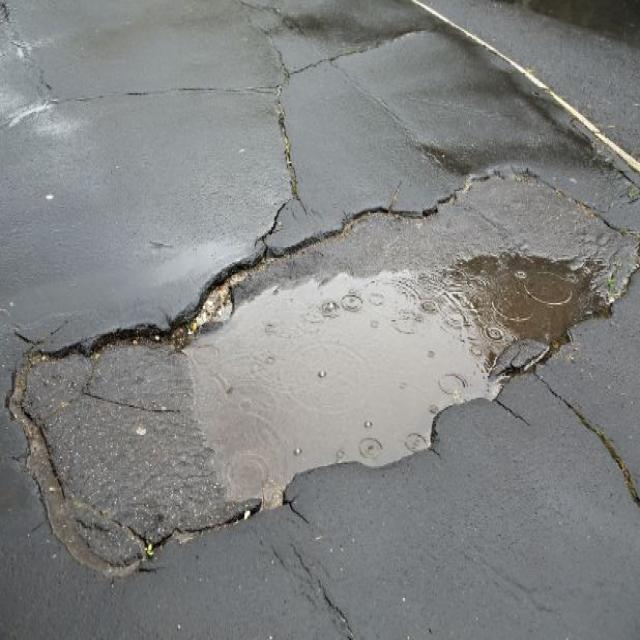Pothole: (4, 152, 636, 581)
